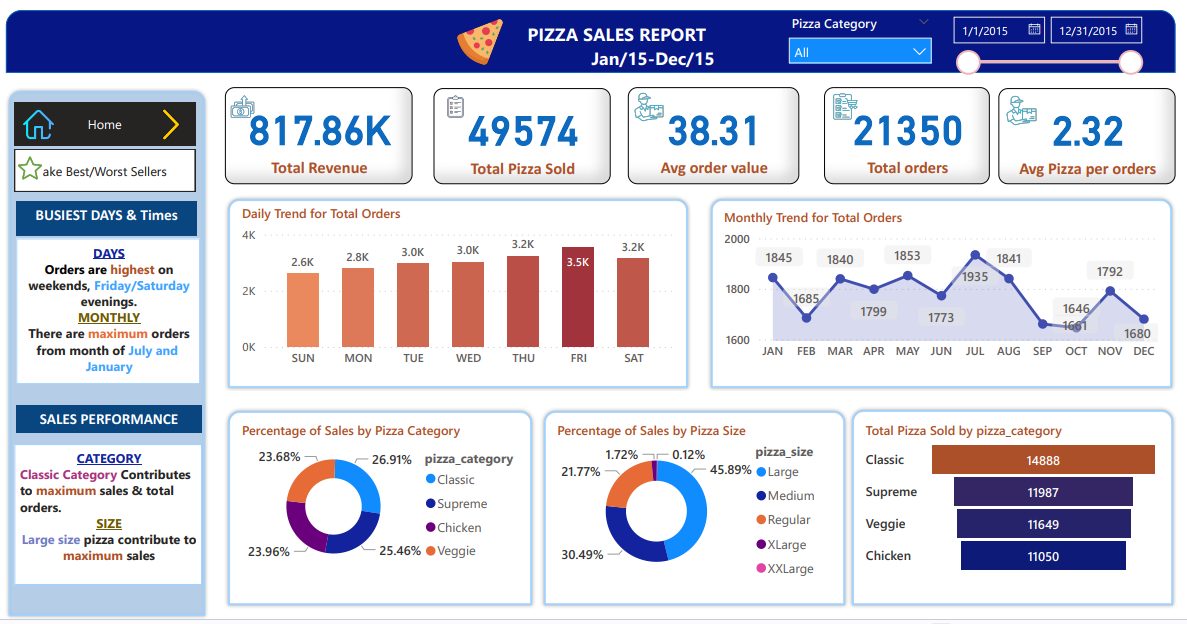

Layout of this report page (visuals, bound fields, positions):
{"tool":"powerbi","page":{"name":"Home","canvas":[1280,720],"ordinal":0},"visuals":[{"type":"shape","box":[1.2,140,212.5,557.5],"z":0},{"type":"textbox","box":[11.8,259.4,190.3,35.4],"z":1000},{"type":"card","fields":{"Values":["pizza_sales_excel_file.Total Revenue"]},"box":[231.2,139,196.8,101.8],"z":2000},{"type":"card","fields":{"Values":["pizza_sales_excel_file.Total Pizza Sold"]},"box":[450.1,140.4,185.8,100.5],"z":3000},{"type":"card","fields":{"Values":["pizza_sales_excel_file.Total orders"]},"box":[860.2,139,173.4,101.8],"z":4000},{"type":"card","fields":{"Values":["pizza_sales_excel_file.Avg Pizza per orders"]},"box":[1043.3,140.4,185.8,100.5],"z":5000},{"type":"card","fields":{"Values":["pizza_sales_excel_file.Avg order value"]},"box":[653.8,139,180.3,101.8],"z":6000},{"type":"shape","box":[1.2,57.5,1227.5,66.2],"z":7000},{"type":"textbox","box":[487.2,64.7,311.1,48.2],"z":8000},{"type":"textbox","box":[602.8,90.8,155.5,38.5],"z":9000},{"type":"image","box":[459.7,61.9,77.1,59.2],"z":10000},{"type":"shape","box":[231.2,253.2,488.6,205.1],"z":11000},{"type":"columnChart","title":"Daily Trend for Total Orders","fields":{"Category":["pizza_sales_excel_file.Order day"],"Y":["pizza_sales_excel_file.Total orders"]},"box":[243.6,262.9,462.5,178.9],"z":12000},{"type":"shape","box":[737.7,253.2,491.4,205.1],"z":13000},{"type":"areaChart","title":"Monthly Trend for Total Orders","fields":{"Category":["pizza_sales_excel_file.Order Month"],"Y":["pizza_sales_excel_file.Total orders"]},"box":[750.1,267,465.2,166.5],"z":14000},{"type":"shape","box":[231.2,476.2,326.2,210.6],"z":15000},{"type":"shape","box":[561.5,476.2,324.8,210.6],"z":16000},{"type":"shape","box":[886.4,474.8,344.1,212],"z":17000},{"type":"donutChart","title":"Percentage of Sales by Pizza Category","fields":{"Category":["pizza_sales_excel_file.pizza_category"],"Y":["pizza_sales_excel_file.Total Revenue"]},"box":[243.6,490,302.8,162.4],"z":18000},{"type":"donutChart","title":"Percentage of Sales by Pizza Size","fields":{"Y":["pizza_sales_excel_file.Total Revenue"],"Category":["pizza_sales_excel_file.pizza_size"]},"box":[575.3,490,297.3,172],"z":19000},{"type":"funnel","fields":{"Category":["pizza_sales_excel_file.pizza_category"],"Y":["pizza_sales_excel_file.Total Pizza Sold"]},"box":[898.8,490,317.9,165.2],"z":20000},{"type":"textbox","box":[11.8,298.1,193.7,153.3],"z":21000},{"type":"textbox","box":[11.8,473.3,195.4,28.6],"z":22000},{"type":"textbox","box":[10.1,513.7,197.1,148.2],"z":23000},{"type":"slicer","fields":{"Values":["pizza_sales_excel_file.pizza_category"]},"box":[813.4,57.8,169.3,60.6],"z":24000},{"type":"slicer","fields":{"Values":["pizza_sales_excel_file.order_date"]},"box":[982.7,55.1,220.2,78.5],"z":25000},{"type":"pageNavigator","box":[10.1,154.9,190.3,45.5],"z":26000},{"type":"pageNavigator","box":[10.1,203.8,190.3,45.5],"z":27000},{"type":"image","box":[148.2,158.3,52.2,40.4],"z":28000},{"type":"image","box":[0,207.2,52.2,33.7],"z":29000},{"type":"image","box":[11.8,158.3,47.2,40.4],"z":30000},{"type":"image","box":[230.7,134.7,37.1,48.8],"z":31000},{"type":"image","box":[451.2,142.5,43.8,33.8],"z":32000},{"type":"image","box":[634.9,139.8,82.5,40.4],"z":33000},{"type":"image","box":[864,128,37.1,62.3],"z":34000},{"type":"image","box":[1025.7,143.2,82.5,40.4],"z":35000}]}

Visuals, with their boxes on the page's 1280x720 design canvas (x1, y1, x2, y2). These are canvas units, not pixel positions in the 1187x624 screenshot, which may show the page scaled, cropped or inside an application window:
shape: 1 140 214 698
textbox: 12 259 202 295
card - pizza_sales_excel_file.Total Revenue: 231 139 428 241
card - pizza_sales_excel_file.Total Pizza Sold: 450 140 636 241
card - pizza_sales_excel_file.Total orders: 860 139 1034 241
card - pizza_sales_excel_file.Avg Pizza per orders: 1043 140 1229 241
card - pizza_sales_excel_file.Avg order value: 654 139 834 241
shape: 1 58 1229 124
textbox: 487 65 798 113
textbox: 603 91 758 129
image: 460 62 537 121
shape: 231 253 720 458
"Daily Trend for Total Orders" columnChart: 244 263 706 442
shape: 738 253 1229 458
"Monthly Trend for Total Orders" areaChart: 750 267 1215 434
shape: 231 476 557 687
shape: 562 476 886 687
shape: 886 475 1230 687
"Percentage of Sales by Pizza Category" donutChart: 244 490 546 652
"Percentage of Sales by Pizza Size" donutChart: 575 490 873 662
funnel - pizza_sales_excel_file.pizza_category x pizza_sales_excel_file.Total Pizza Sold: 899 490 1217 655
textbox: 12 298 206 451
textbox: 12 473 207 502
textbox: 10 514 207 662
slicer - pizza_sales_excel_file.pizza_category: 813 58 983 118
slicer - pizza_sales_excel_file.order_date: 983 55 1203 134
pageNavigator: 10 155 200 200
pageNavigator: 10 204 200 249
image: 148 158 200 199
image: 0 207 52 241
image: 12 158 59 199
image: 231 135 268 184
image: 451 142 495 176
image: 635 140 717 180
image: 864 128 901 190
image: 1026 143 1108 184
